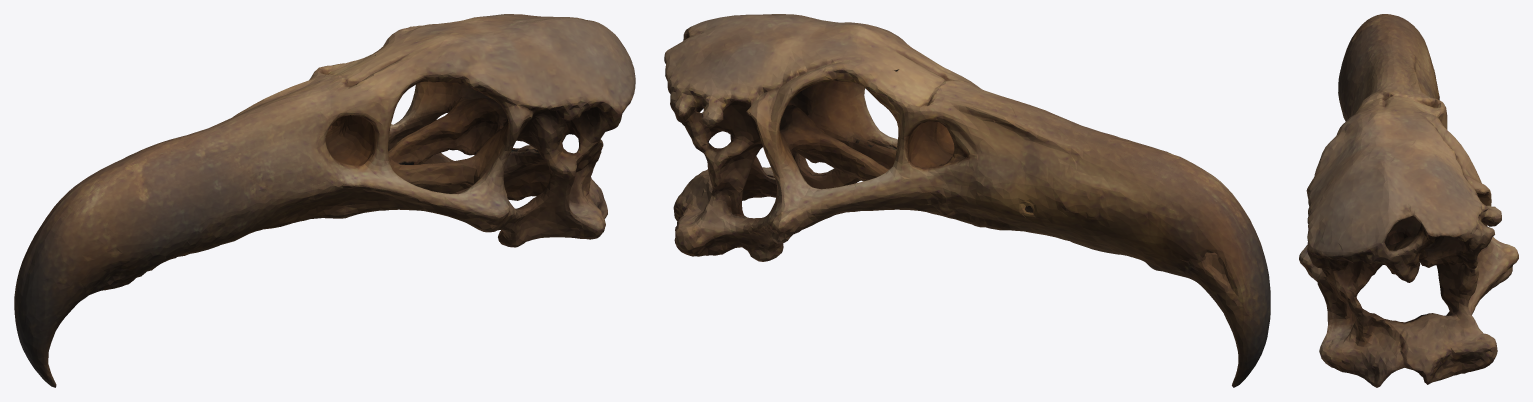
3 views of the same model, side by side, from view 1: azimuth 30°, elevation 25°; view 2: azimuth 150°, elevation 25°; view 3: azimuth 270°, elevation 25° (orthographic). The views are drawn at different scales.
Parts seen in each view (by area): view 1: world; view 2: world; view 3: world.
Boxes of the visible parts, box(x1,y1,x2,y2) form: world: box(14, 14, 635, 387); world: box(664, 14, 1270, 387); world: box(1299, 14, 1518, 387).
Bounding box in the file's own units: 0.9991 × 0.4199 × 0.3449.
Materials: 1 (1 with a texture image).
